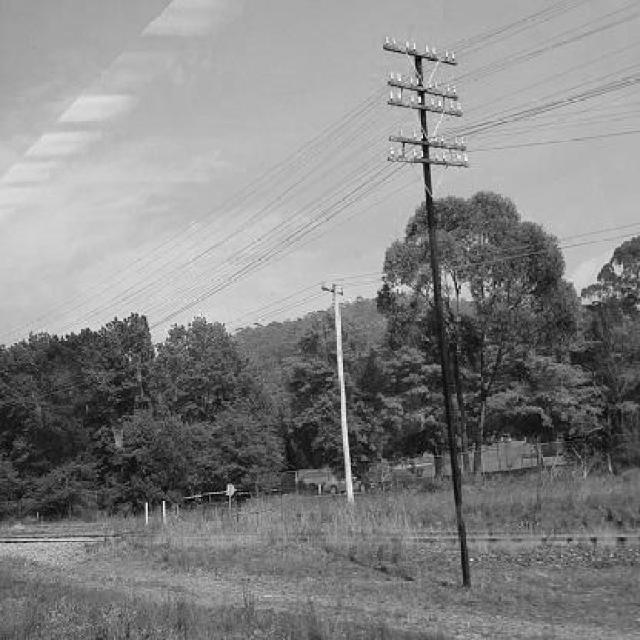Pole: (386, 40, 470, 587), (322, 284, 353, 502)
